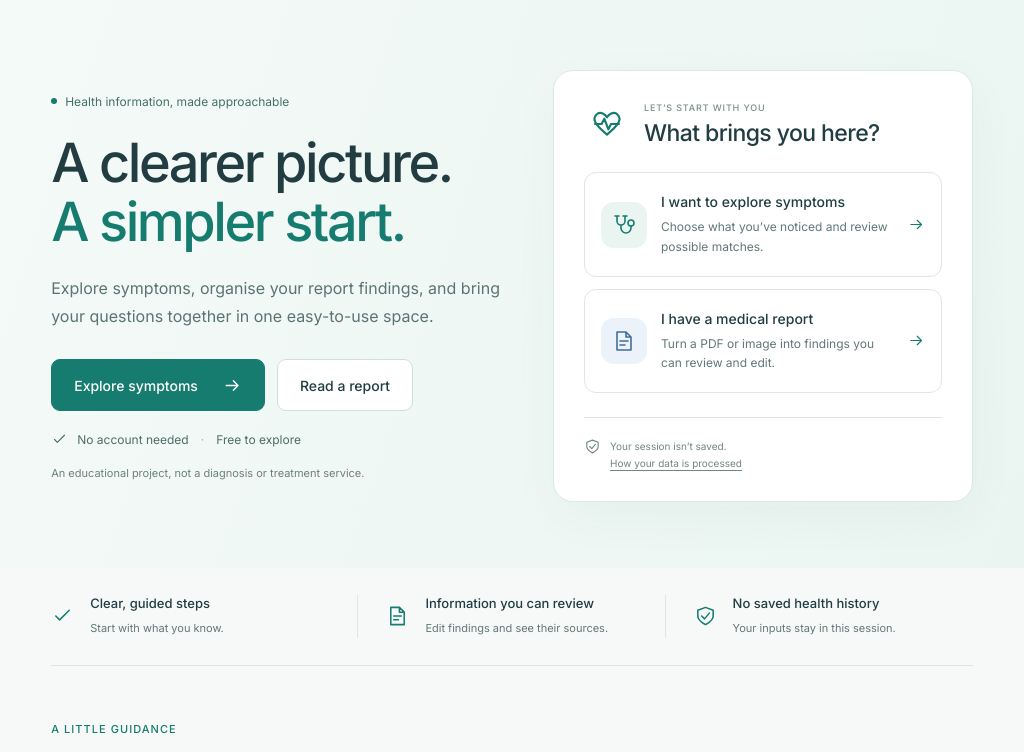
Test: simple healthcare entry points › opens the report tool directly from the homepage
Click the link "Read a report" at (345, 385), box top-left (277, 359), bottom-right (413, 411)
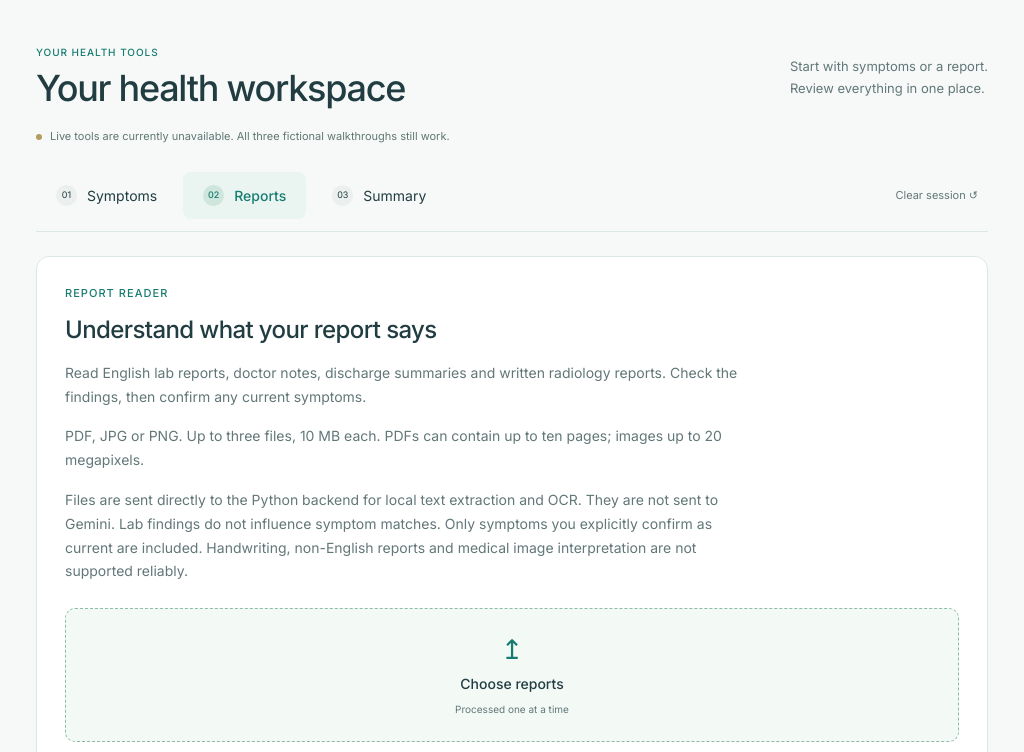
Expected: the heading "Understand what your report says" is shown, top-left (65, 315), bottom-right (437, 344)
